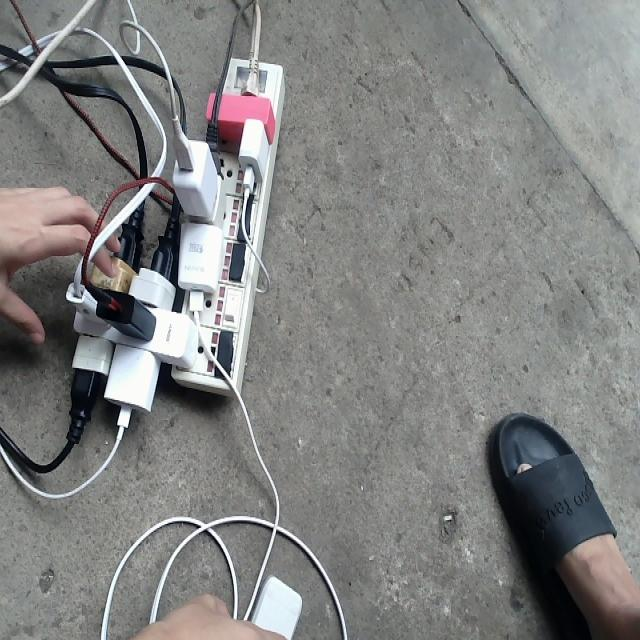-: (70, 53, 284, 424)
